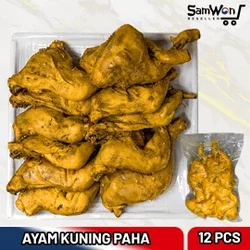ayam_goreng: (87, 22, 198, 84)
